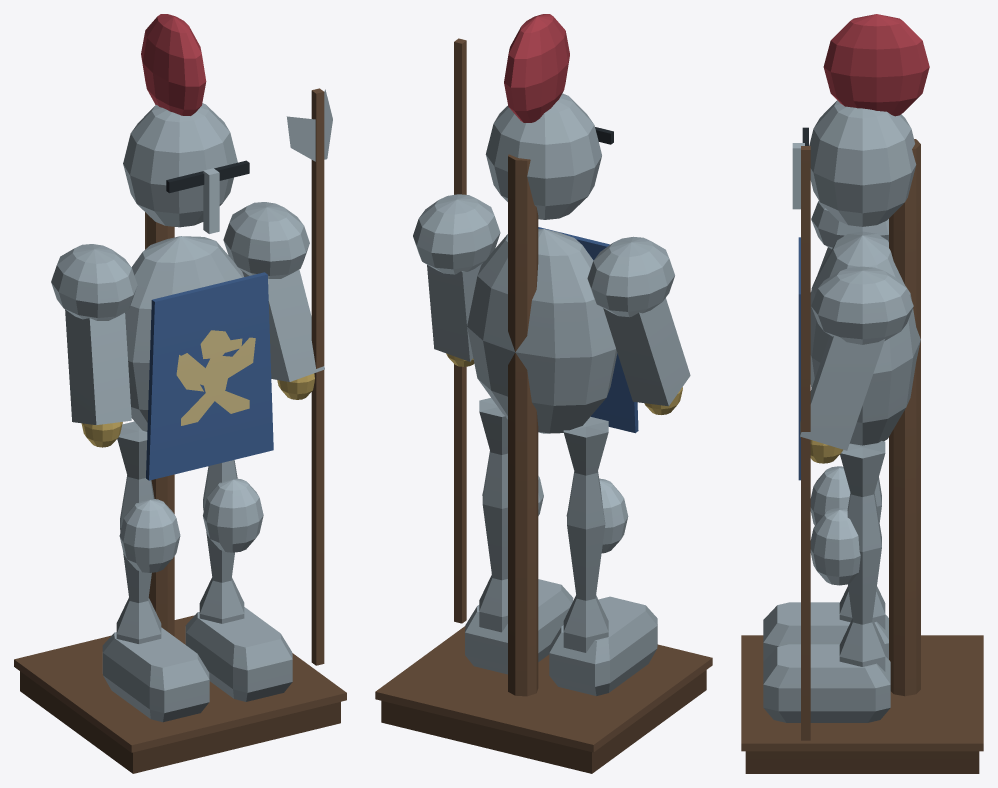
File: palace_armor_stand.glb
3 views of the same model, side by side, from view 1: azimuth 30°, elevation 25°; view 2: azimuth 150°, elevation 25°; view 3: azimuth 270°, elevation 25° (orthographic). The views are drawn at different scales.
Parts seen in each view (by area): view 1: palace_armor_stand; view 2: palace_armor_stand; view 3: palace_armor_stand.
Part boxes in pixels (x1,y1,x2,y2): palace_armor_stand: (14,14,346,773); palace_armor_stand: (375,14,712,773); palace_armor_stand: (741,14,983,773).
Size of the model in its own units: 0.8255 by 2.2 by 0.685.
